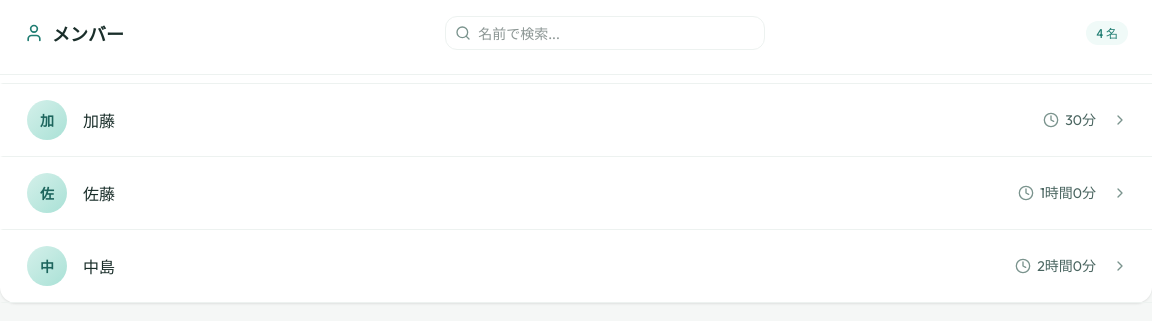
Test case: MemberList › インクリメンタルサーチ › メンバー数バッジが絞り込み後の件数を反映すること
The image size is (1152, 321).
Expected: the text "4 名" is shown, [1086, 21, 1128, 45]
In the field with placeholder "名前で検索...": (605, 33) [445, 16, 765, 50], type "加藤"
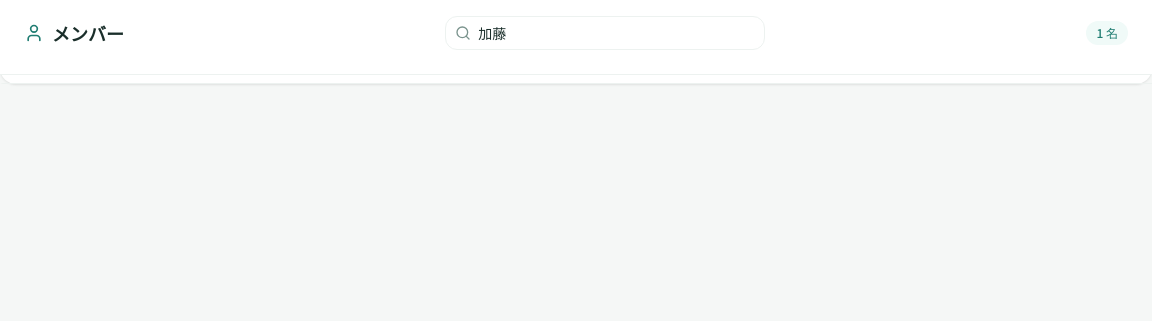
Expected: the text "1 名" is shown, [1086, 21, 1128, 45]
Expected: the text "4 名" is gone
